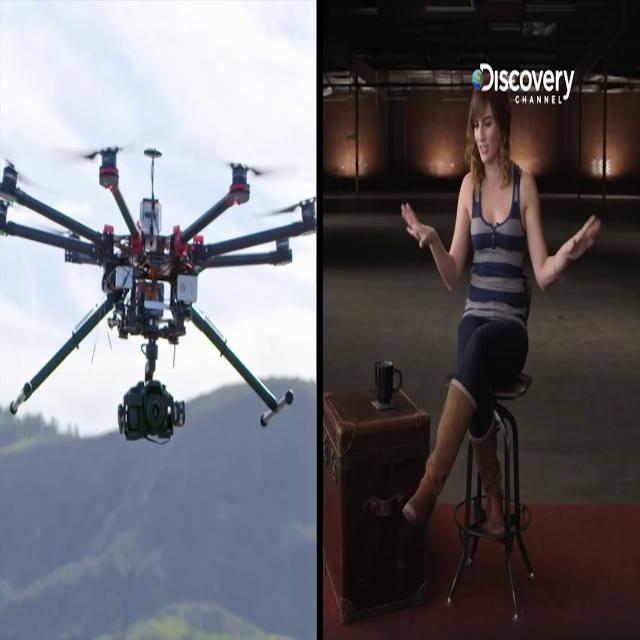drone: (0, 121, 317, 450)
